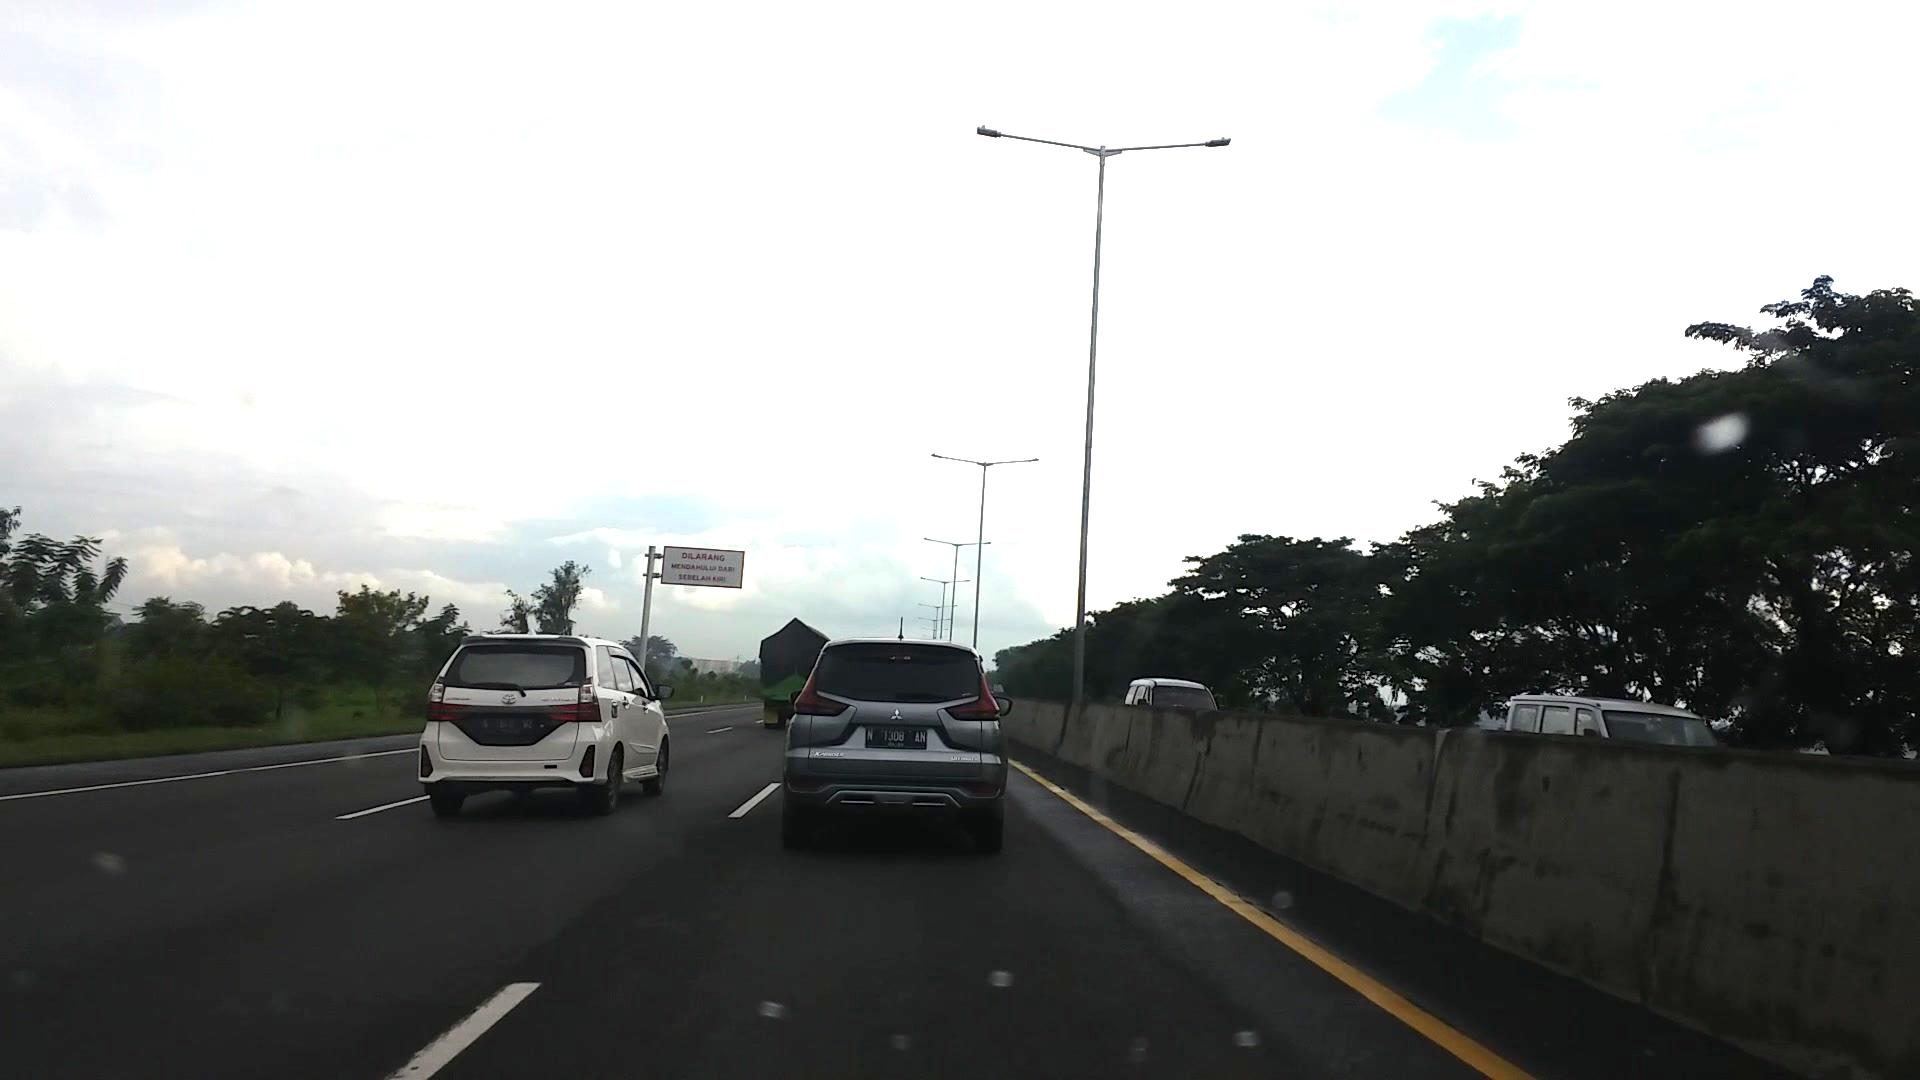plate_positive: (865, 727, 928, 749)
